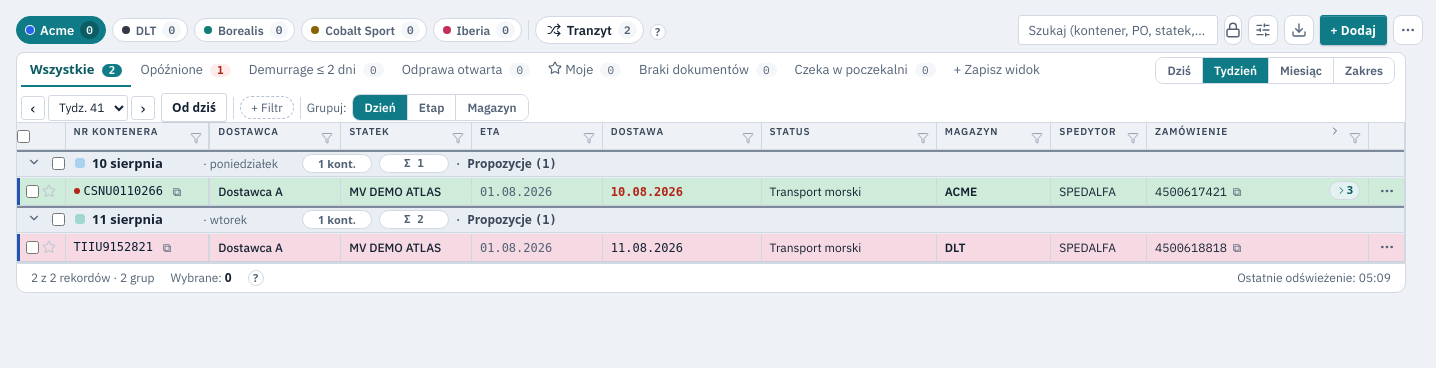
Test case: kolejka 4a — PO i SENT zwinięte gdy jest ich więcej niż jeden › rozwijanie numerów nie zaznacza wiersza
Expected: the text "CSNU0110266" is shown, [84,184,163,198]
Click the button titled "Pokaż wszystkie numery".
click(1344, 190)  # box [1329,181,1360,200]
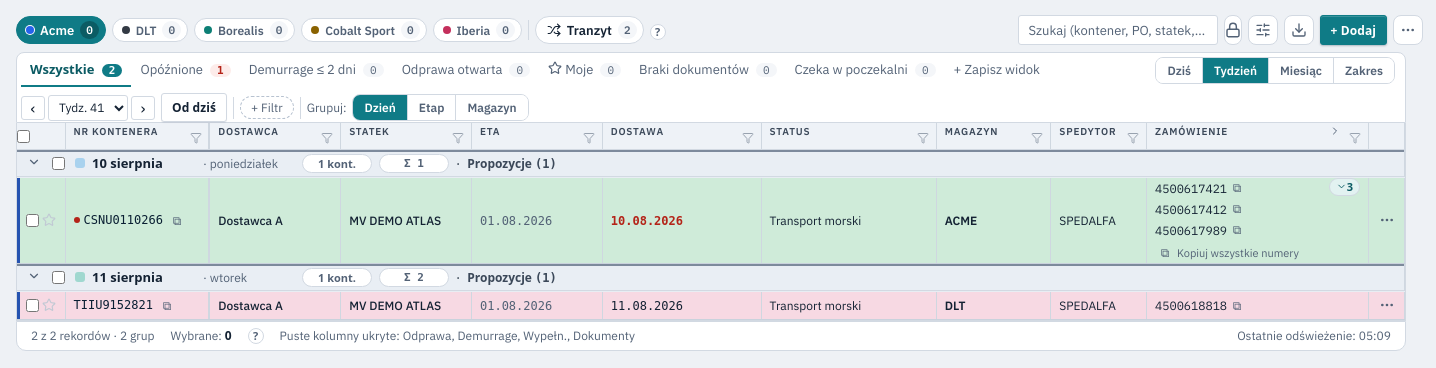
Expected: the text "4500617989" is shown, [1155,222,1227,237]
